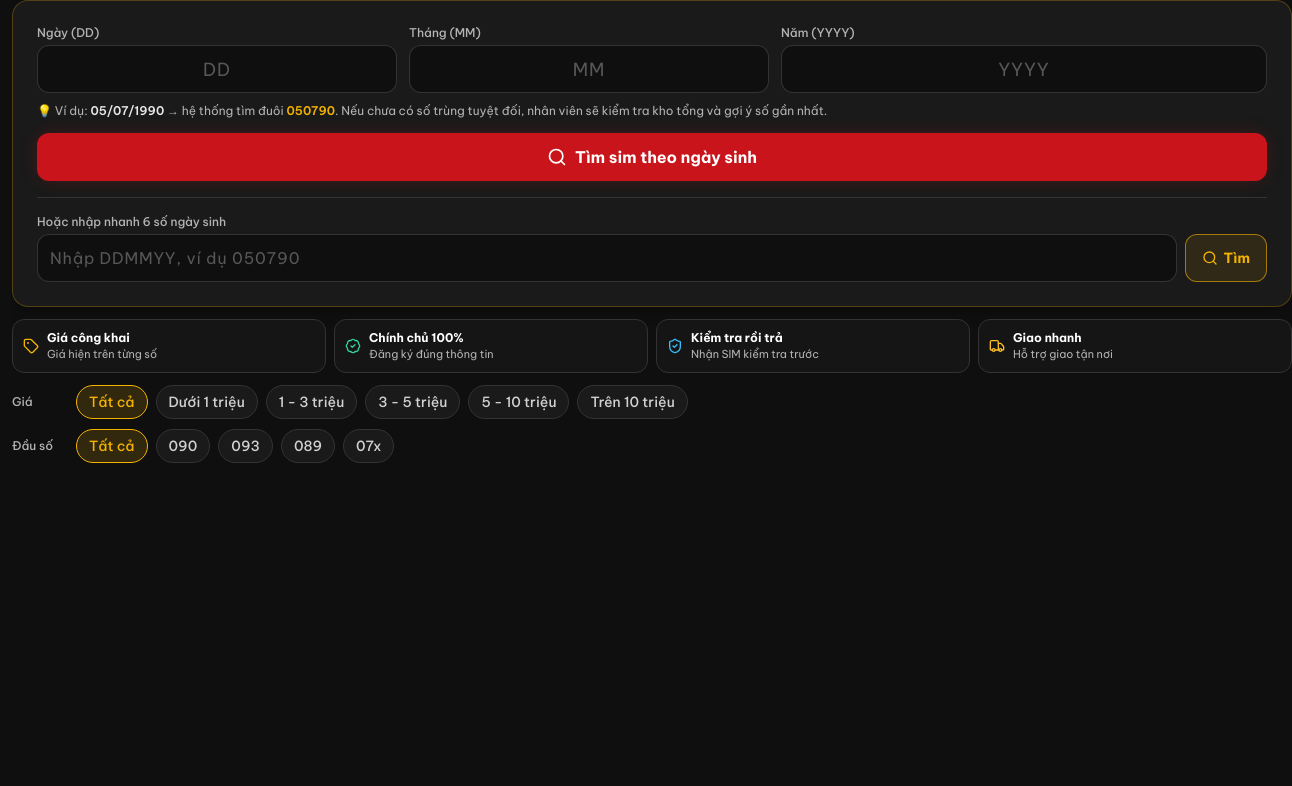
Test: SimNgaySinhFinder — landing /sim-ngay-thang-nam-sinh › exact đứng trước số chứa; đổi lọc tìm lại NGAY với giá trị vừa chọn
Later steps or results of the test are not shown.
Type "01/08/2005" into the field with placeholder "Nhập DDMMYY, ví dụ 050790".
click(607, 258); type("01/08/2005")  # box [37, 234, 1177, 282]
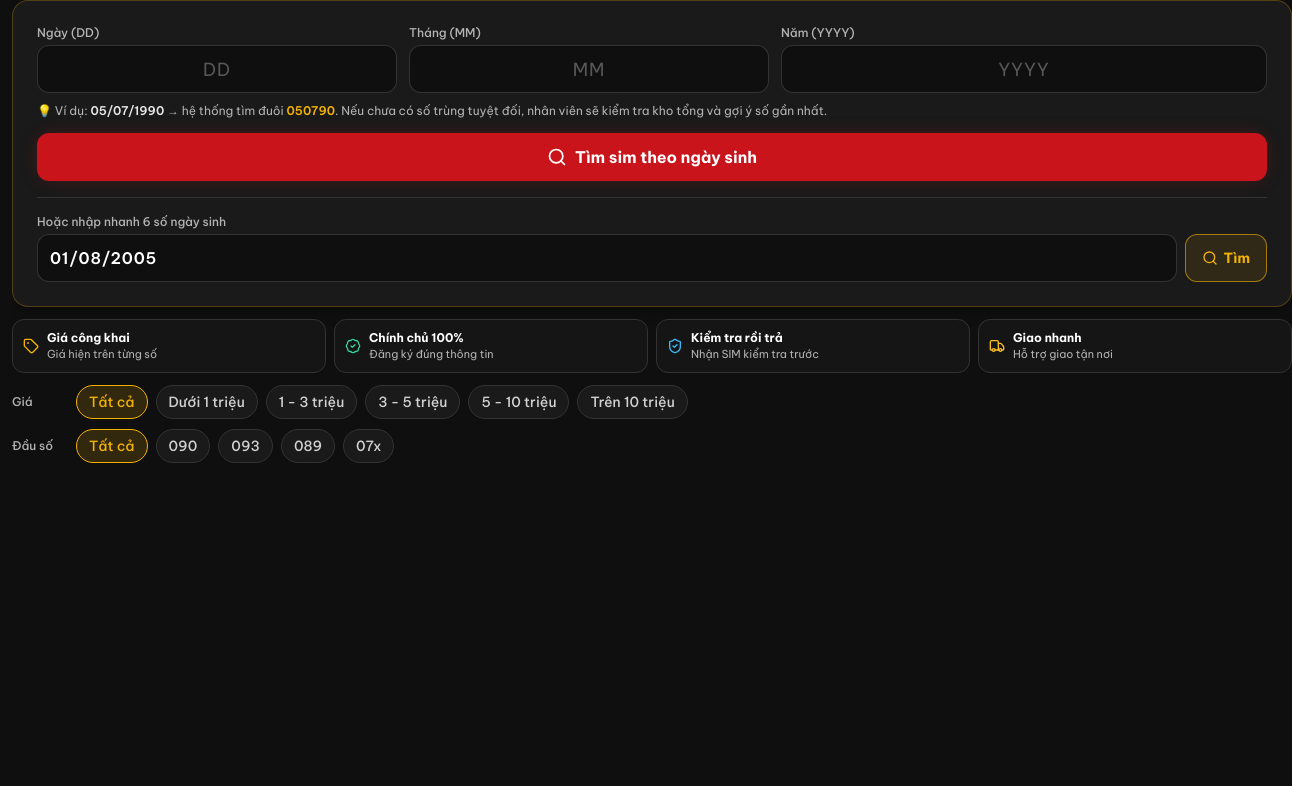
Click the button "Tìm".
click(1226, 258)  # box [1185, 234, 1267, 282]
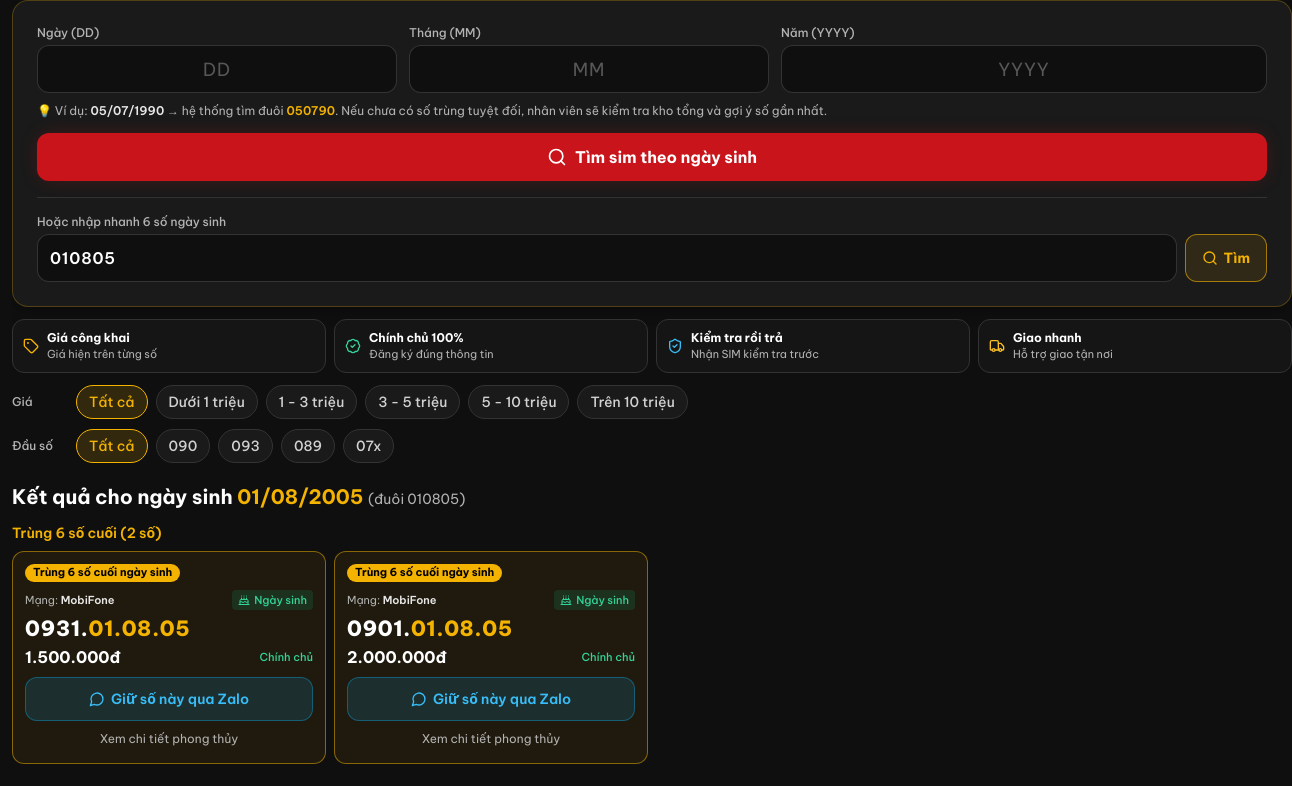
Check: the text "Trùng 6 số cuối ngày sinh" is shown 2 times, box [25, 564, 180, 582]; [347, 564, 502, 582]
